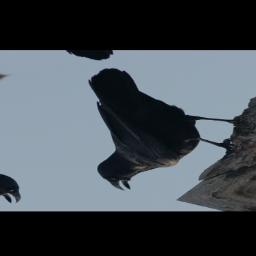Crow: (30, 58, 256, 194)
